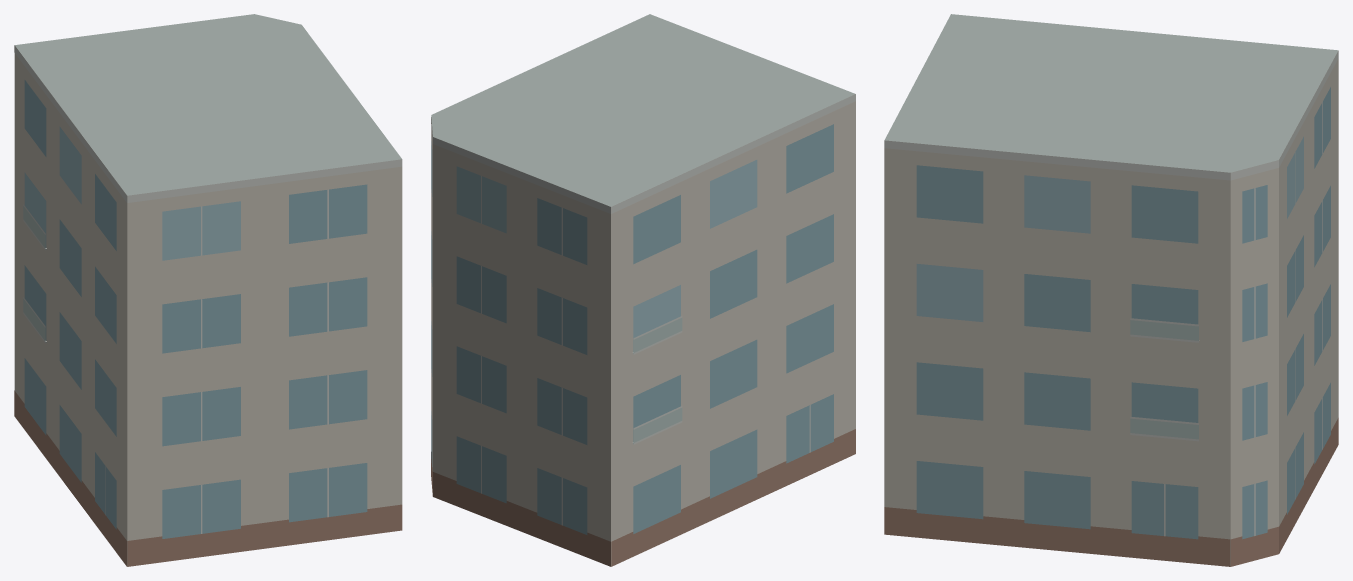
File: survey-upis-32810965.glb
3 views of the same model, side by side, from view 1: azimuth 30°, elevation 25°; view 2: azimuth 150°, elevation 25°; view 3: azimuth 270°, elevation 25° (orthographic). The views are drawn at different scales.
Parts seen in each view (by area): view 1: survey-upis-32810965.tmp; view 2: survey-upis-32810965.tmp; view 3: survey-upis-32810965.tmp.
Part boxes in pixels (x1=…): survey-upis-32810965.tmp: x1=14, y1=14, x2=402, y2=566; survey-upis-32810965.tmp: x1=431, y1=14, x2=855, y2=566; survey-upis-32810965.tmp: x1=884, y1=14, x2=1338, y2=566.
Size of the model in its own units: 10.62 by 12.29 by 12.85.
